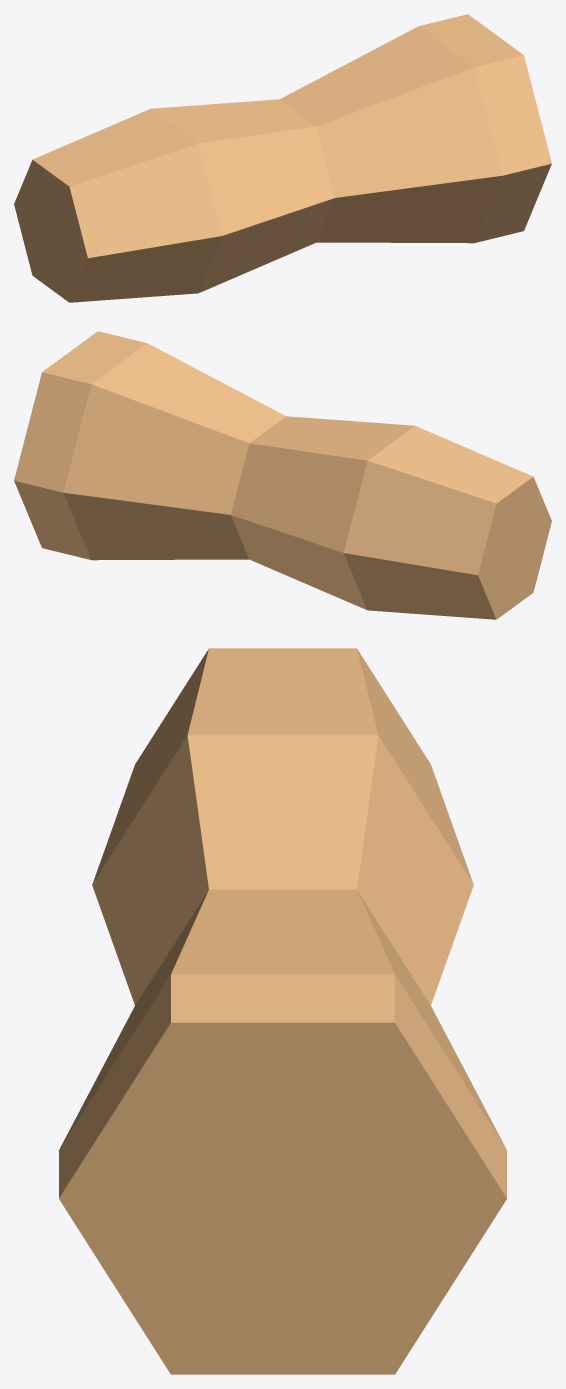
Rendered from rollingGrip1.obj.
3 views of the same model, one above another, from view 1: azimuth 30°, elevation 25°; view 2: azimuth 150°, elevation 25°; view 3: azimuth 270°, elevation 25° (orthographic). The views are drawn at different scales.
Visible parts, largest first — view 1: rollingPin.001; view 2: rollingPin.001; view 3: rollingPin.001.
Part boxes in pixels (x1,y1,x2,y2): rollingPin.001: [14, 14, 551, 302]; rollingPin.001: [14, 331, 551, 619]; rollingPin.001: [59, 648, 506, 1374].
Bounding box in the file's own units: 0.09 × 0.034 × 0.0393.
